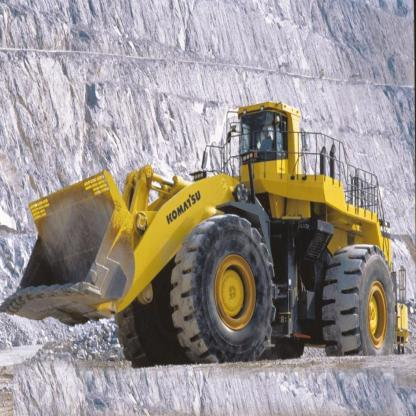bull_dozer/loader/grader: (9, 92, 409, 366)
